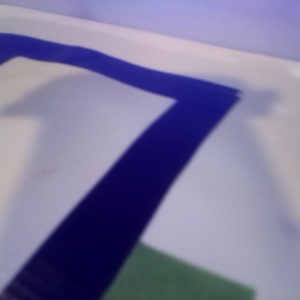top_right: (43, 240, 254, 299)
